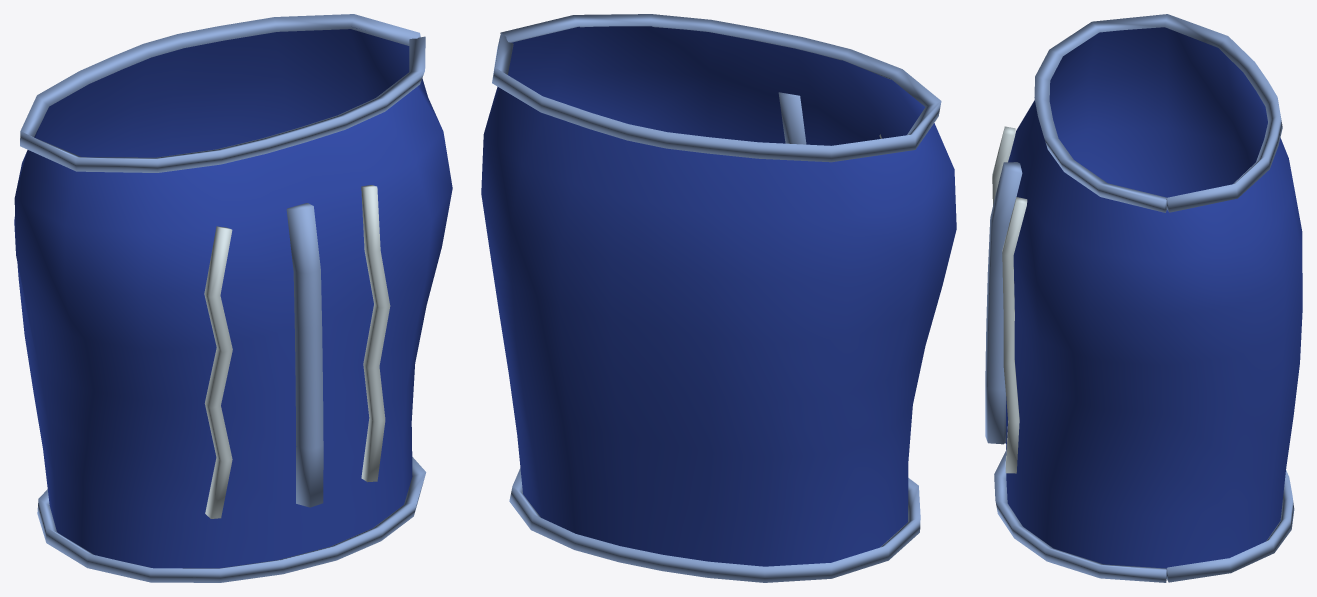
Rendered from stardust_armor_chest.glb.
3 views of the same model, side by side, from view 1: azimuth 30°, elevation 25°; view 2: azimuth 150°, elevation 25°; view 3: azimuth 270°, elevation 25° (orthographic). The views are drawn at different scales.
Parts seen in each view (by area): view 1: stardust_armor_chest; view 2: stardust_armor_chest; view 3: stardust_armor_chest.
Boxes of the visible parts, bbox=[...] form: stardust_armor_chest: bbox=[14, 14, 452, 582]; stardust_armor_chest: bbox=[481, 14, 956, 582]; stardust_armor_chest: bbox=[985, 14, 1302, 582].
Size of the model in its own units: 0.3976 by 0.3857 by 0.2799.
